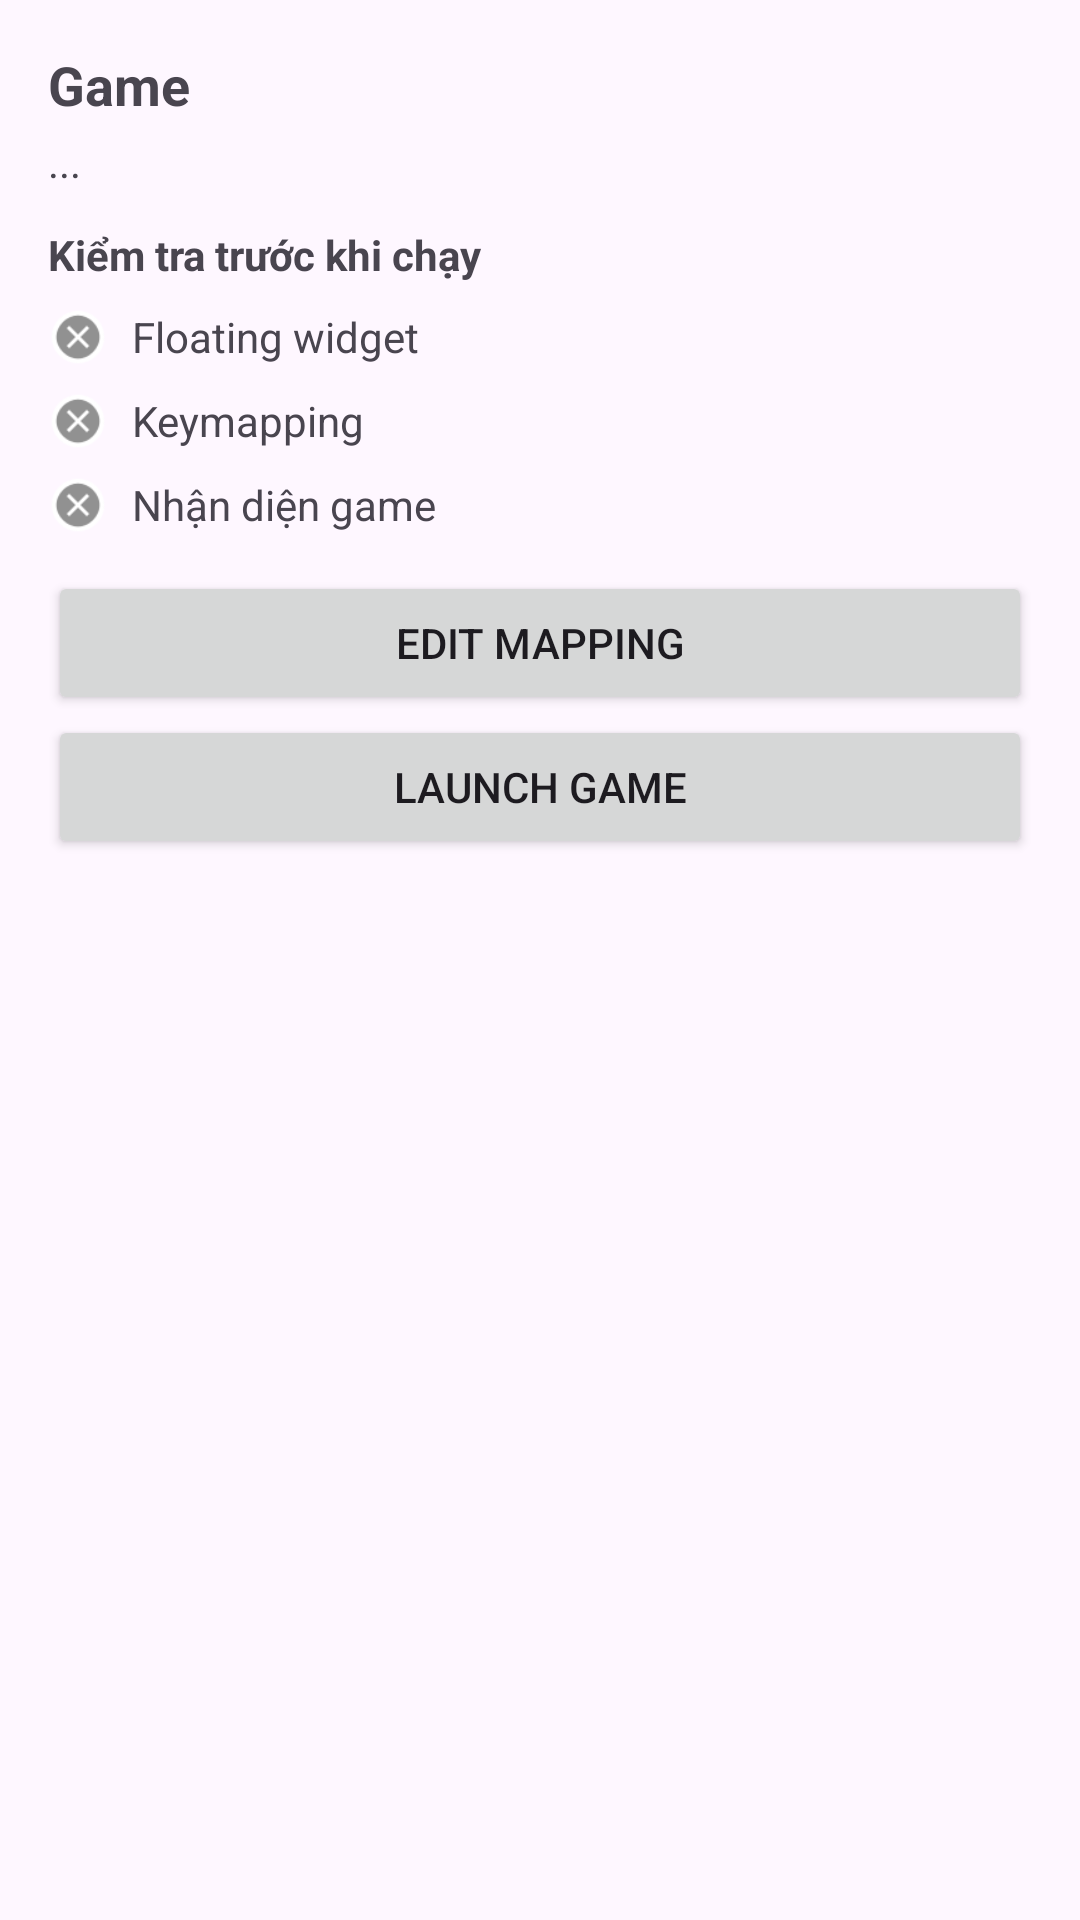

Where to tap for icons on this 1080*1920 app screen, as [x,y]:
presence offline: [78,337], [78,421], [78,505]
